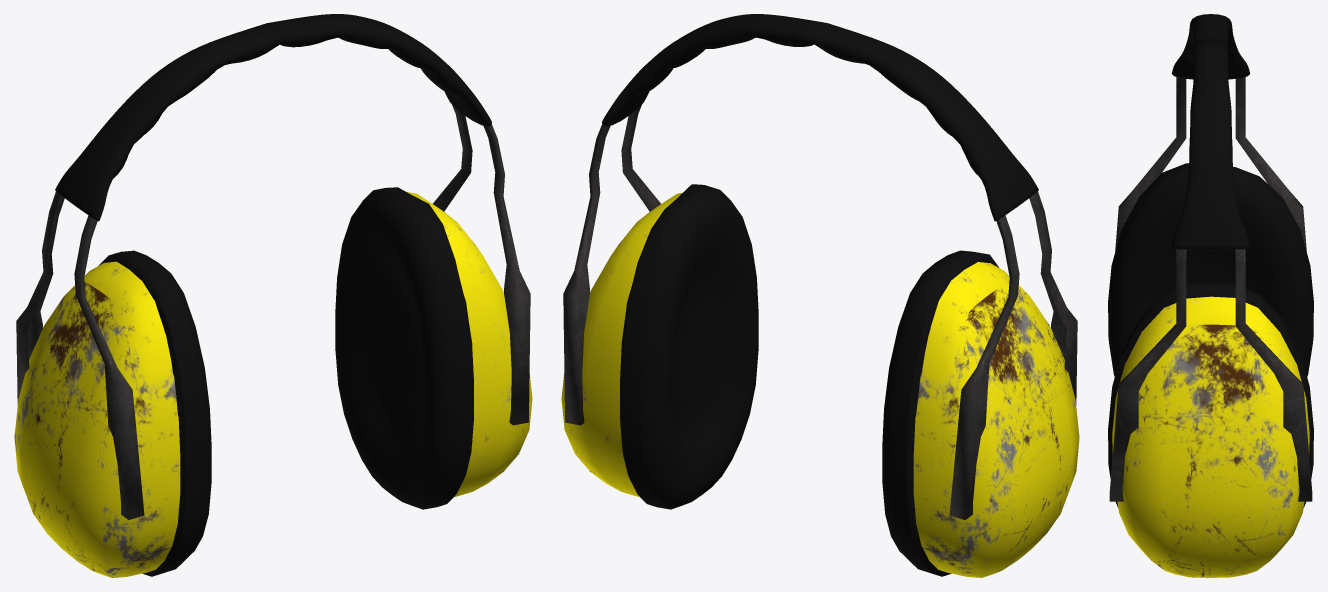
Rendered from Earmuffs.glb.
The picture shows the model from 3 angles, left to right: view 1: azimuth 30°, elevation 25°; view 2: azimuth 150°, elevation 25°; view 3: azimuth 270°, elevation 25°; orthographic projection. The views are drawn at different scales.
Visible parts, largest first — view 1: Cube, Cube.001, Cube.005, Cube.004; view 2: Cube, Cube.001, Cube.005, Cube.004; view 3: Cube, Cube.001, Cube.005, Cube.004.
Boxes of the visible parts, x1,y1,x2,y2 form: Cube: [14, 191, 532, 577]; Cube.001: [98, 187, 473, 576]; Cube.005: [55, 14, 491, 221]; Cube.004: [16, 105, 530, 519]; Cube: [561, 192, 1079, 577]; Cube.001: [620, 184, 998, 576]; Cube.005: [602, 14, 1038, 221]; Cube.004: [563, 105, 1077, 519]; Cube: [1112, 296, 1309, 577]; Cube.001: [1108, 163, 1313, 507]; Cube.005: [1171, 14, 1250, 250]; Cube.004: [1109, 77, 1312, 501].
Size of the model in its own units: 4.11 by 4.34 by 1.75.
4 materials, 4 textured.
